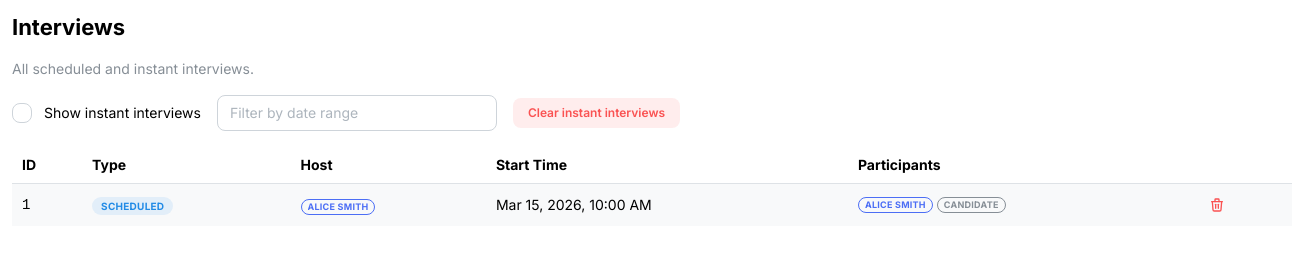
Test: interviewsPage › shows delete button for each interview
The image size is (1292, 278).
// toggle to show instant interviews too
What coordinates should you click on to do the following:
click the checkbox labelled "Show instant interviews"
I would click on:
 (22, 113)
Its box is [12,103,32,123].
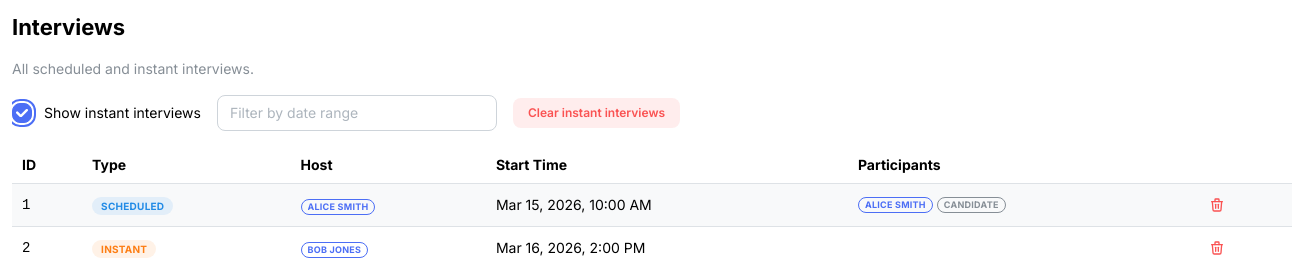
Expected: the number of buttons named "Delete" is 2, [1203,191,1231,219]; [1203,234,1231,262]
